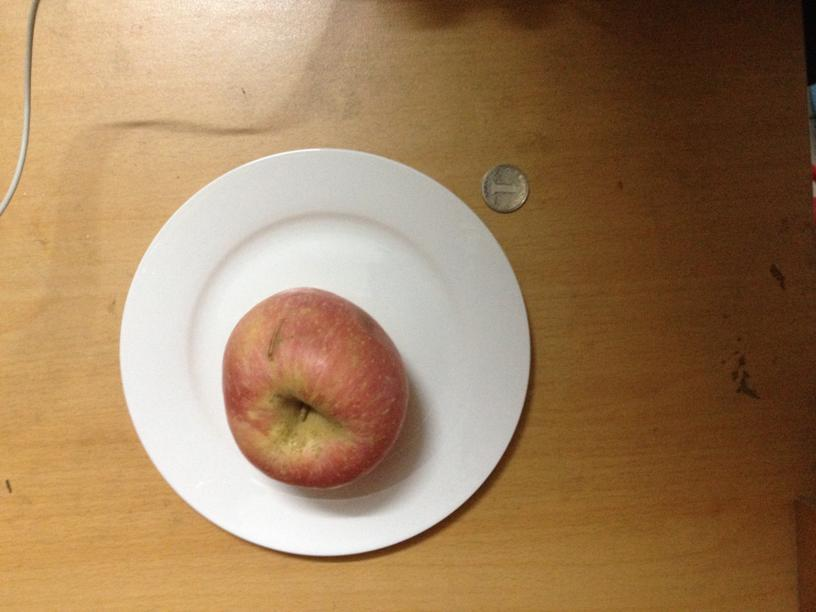apple: (218, 290, 409, 488)
coin: (479, 162, 531, 213)
